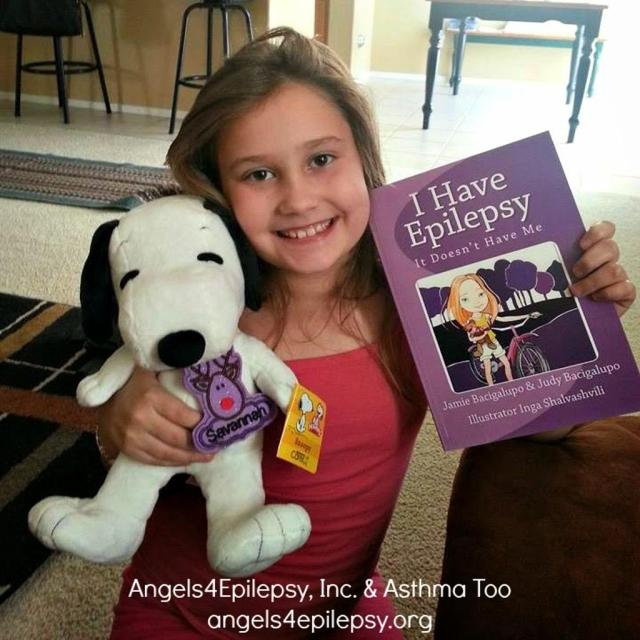Face: (218, 89, 389, 280)
